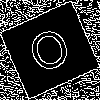O: (25, 25, 78, 84)
